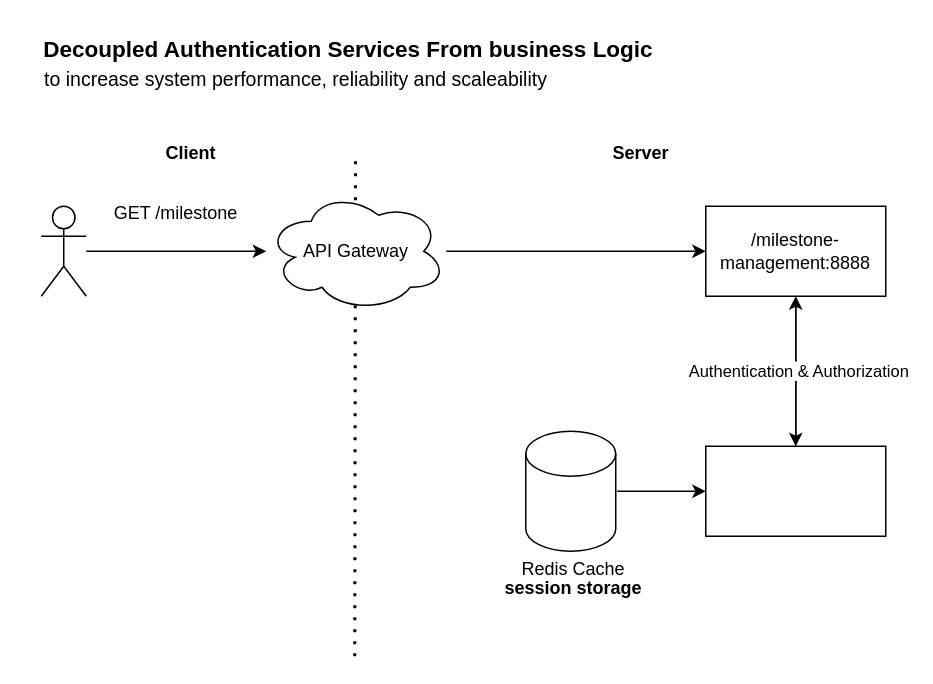
Some shapes in this 933 by 684 pixel diagram are drawn without their labels. Here are the shapes that lost their labels. From the top down, the centre of each, then its label:
[63,250]: Actor
[795,490]: /auth-services:7777
